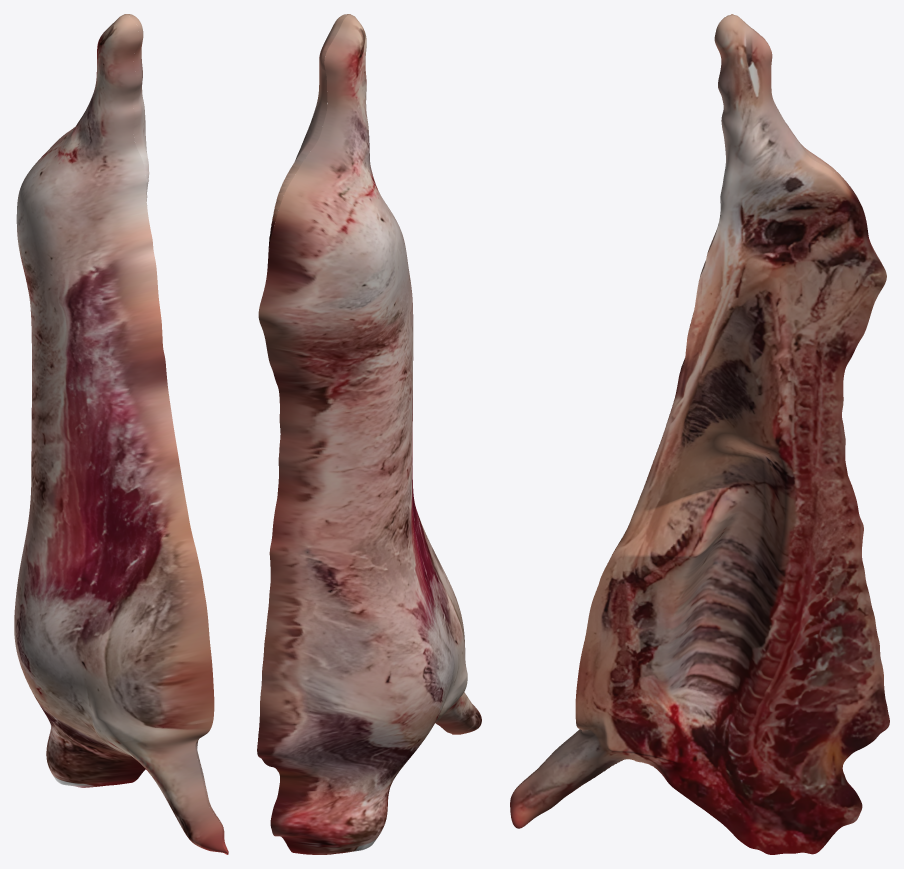
Rendered from demi_carcasse_boeuf_v17.glb.
3 renders of one model, left to right at view 1: azimuth 30°, elevation 25°; view 2: azimuth 150°, elevation 25°; view 3: azimuth 270°, elevation 25°, orthographic. The views are drawn at different scales.
Parts seen in each view (by area): view 1: face_exterieure, face_de_fente; view 2: face_exterieure, face_de_fente; view 3: face_de_fente, face_exterieure.
Boxes of the visible parts, left/top/right/bottom form: face_exterieure: left=14, top=14, right=228, bottom=854; face_de_fente: left=126, top=14, right=228, bottom=853; face_exterieure: left=257, top=14, right=481, bottom=854; face_de_fente: left=268, top=14, right=452, bottom=734; face_de_fente: left=510, top=15, right=889, bottom=854; face_exterieure: left=513, top=14, right=882, bottom=792.
Size of the model in its own units: 0.4164 by 2.5 by 1.03.
2 materials, 2 textured.
